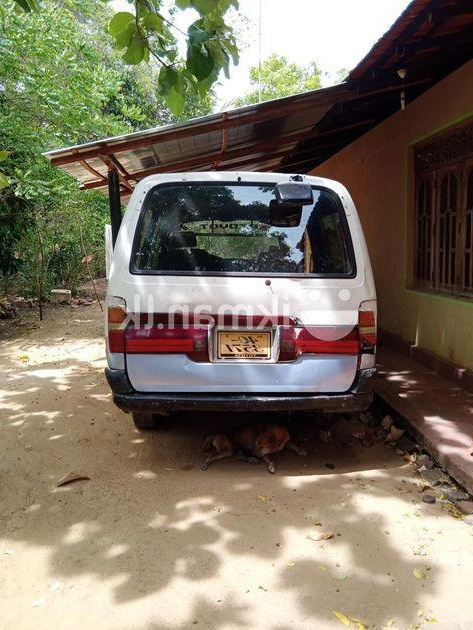van: (95, 160, 387, 433)
